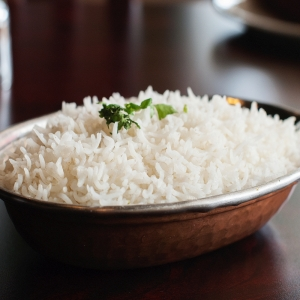plain rice: (24, 103, 289, 189)
